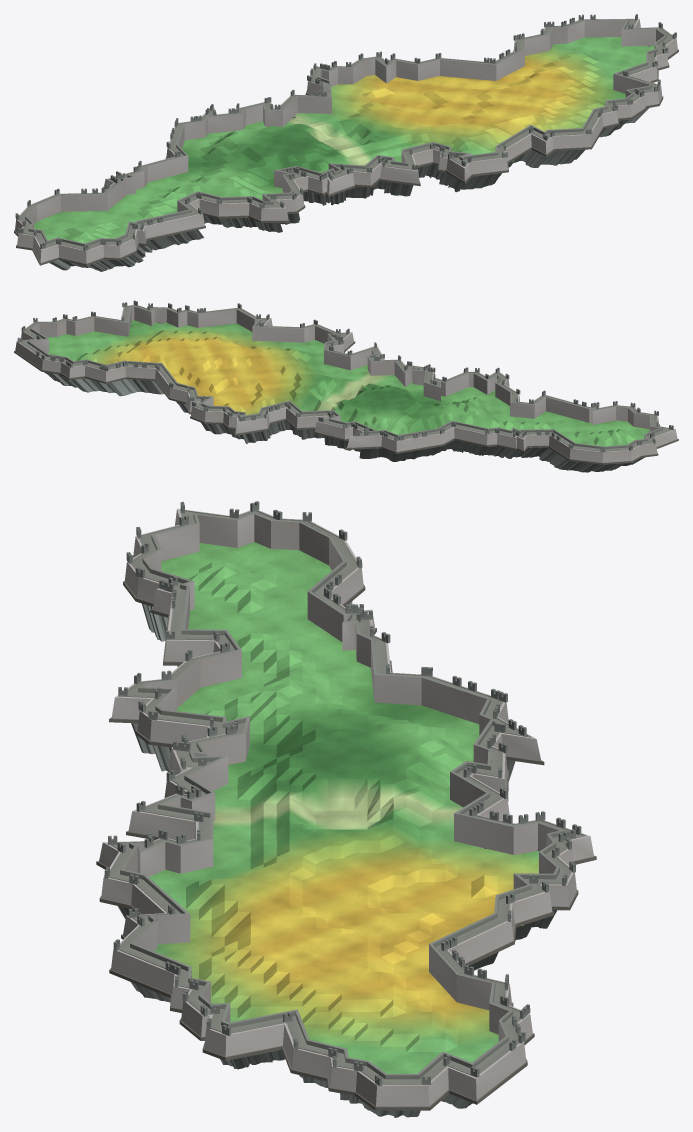
3 renders of one model, top to bottom at view 1: azimuth 30°, elevation 25°; view 2: azimuth 150°, elevation 25°; view 3: azimuth 270°, elevation 25°, orthographic. The views are drawn at different scales.
Visible parts, largest first — view 1: ground_188c6cab; view 2: ground_188c6cab; view 3: ground_188c6cab.
Boxes of the visible parts, x1=… form: ground_188c6cab: x1=14, y1=14, x2=678, y2=271; ground_188c6cab: x1=14, y1=300, x2=678, y2=472; ground_188c6cab: x1=96, y1=501, x2=596, y2=1117.
Size of the model in its own units: 159 by 7.6 by 57.85.
Materials: 3 (1 with a texture image).
